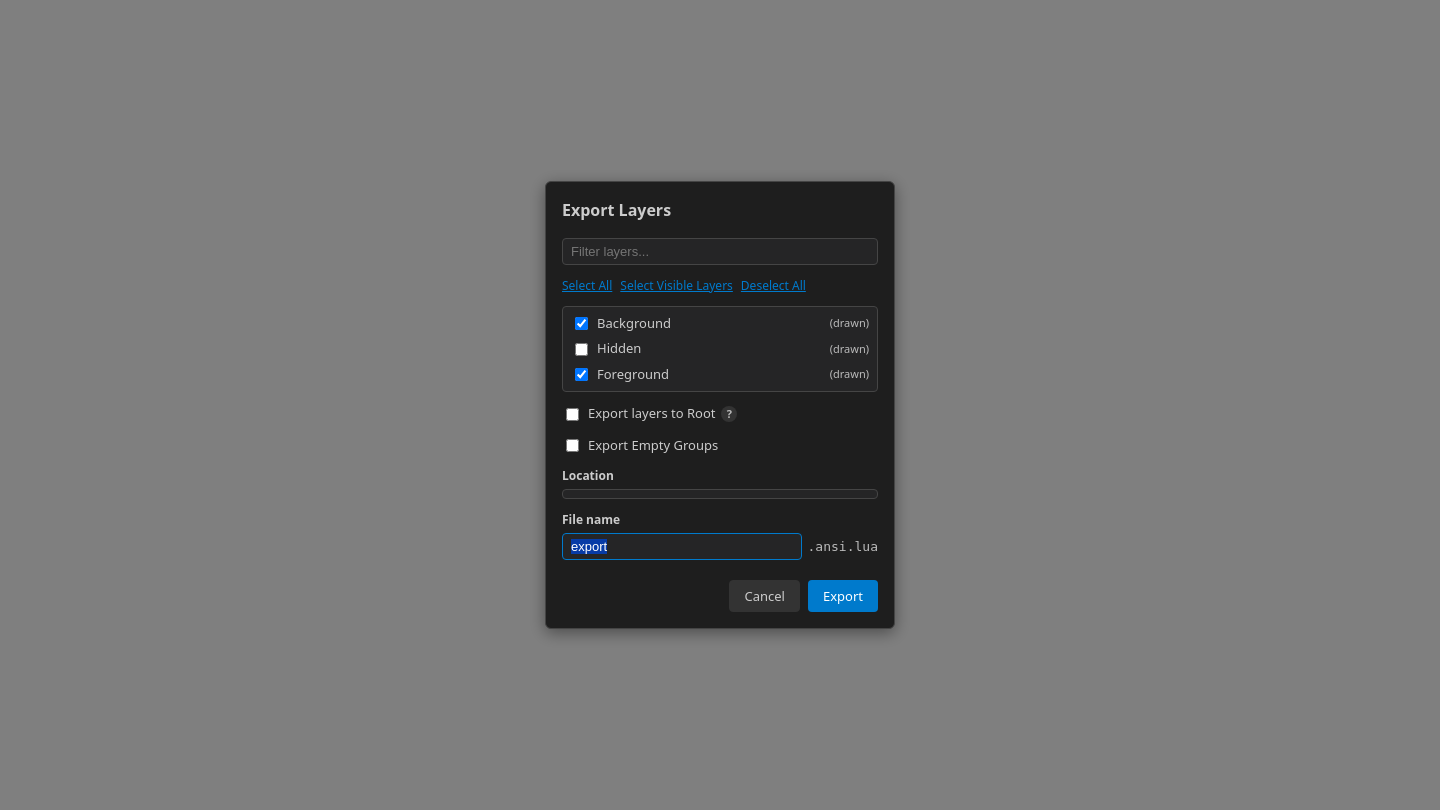
ExportLayersDialog › Select Visible Layers adds visible layers to current selection
Deselect all first
Click the button "Deselect All": coordinates (773, 285) 741,277 -> 806,294
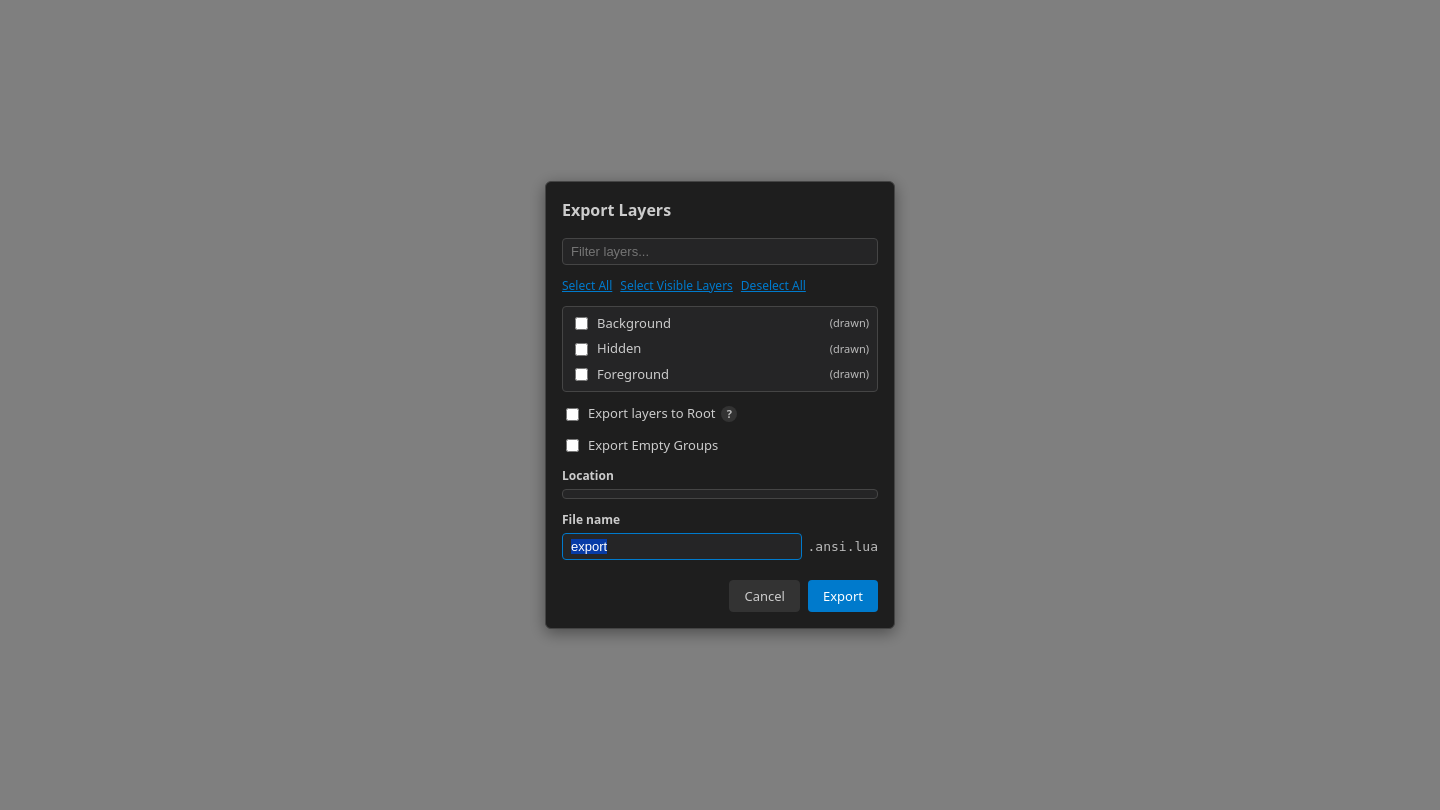
Now the checkbox with test id "export-check-bg-1" is not checked, box 575,317 -> 588,330
Select Visible Layers — should add bg and fg but not hidden
Click the button with test id "export-select-visible": coordinates (677, 285) 620,277 -> 733,294
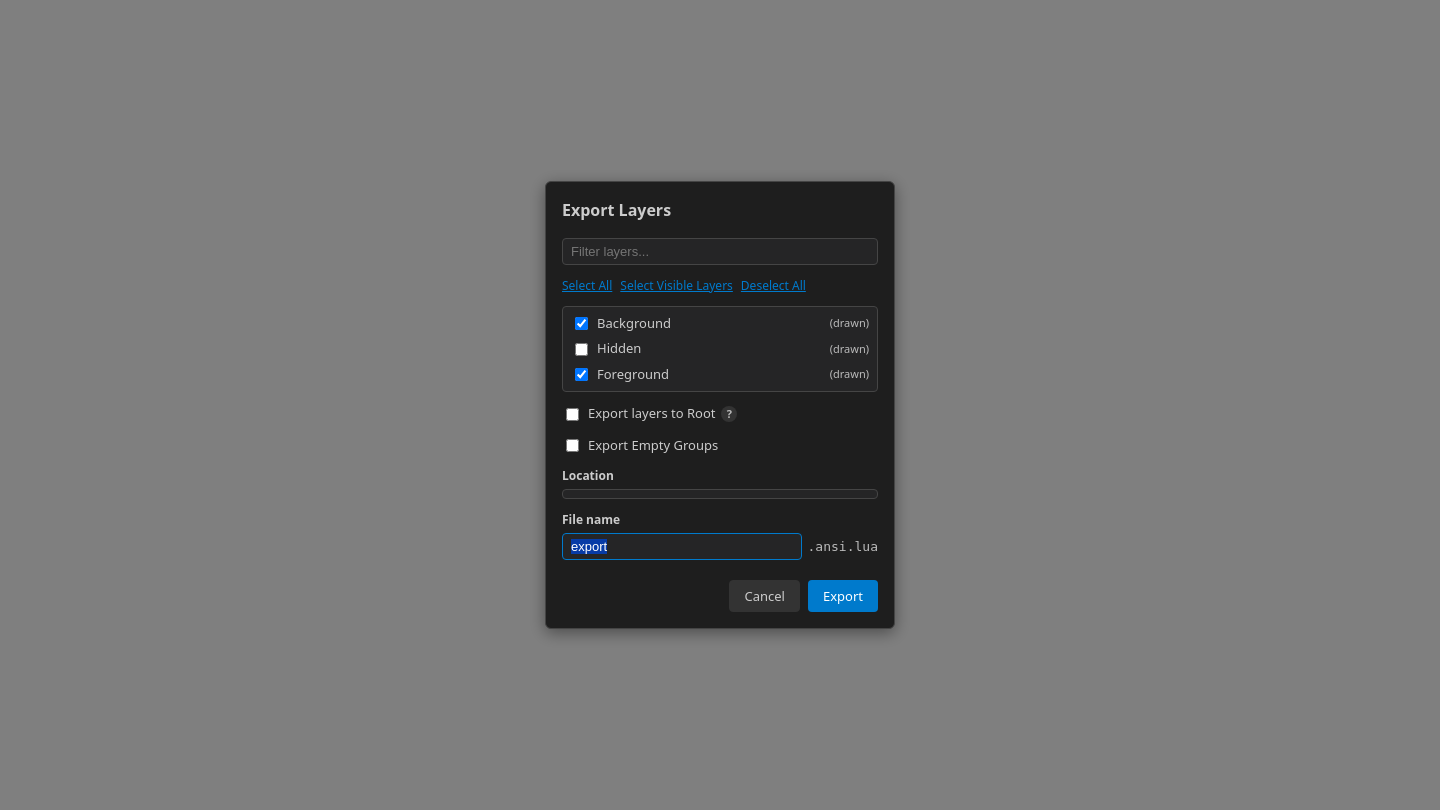
Expected: the checkbox with test id "export-check-hid-1" is not checked, 575,342 -> 588,356
Now the checkbox with test id "export-check-bg-1" is checked, box 575,317 -> 588,330
Now the checkbox with test id "export-check-fg-1" is checked, box 575,368 -> 588,381
